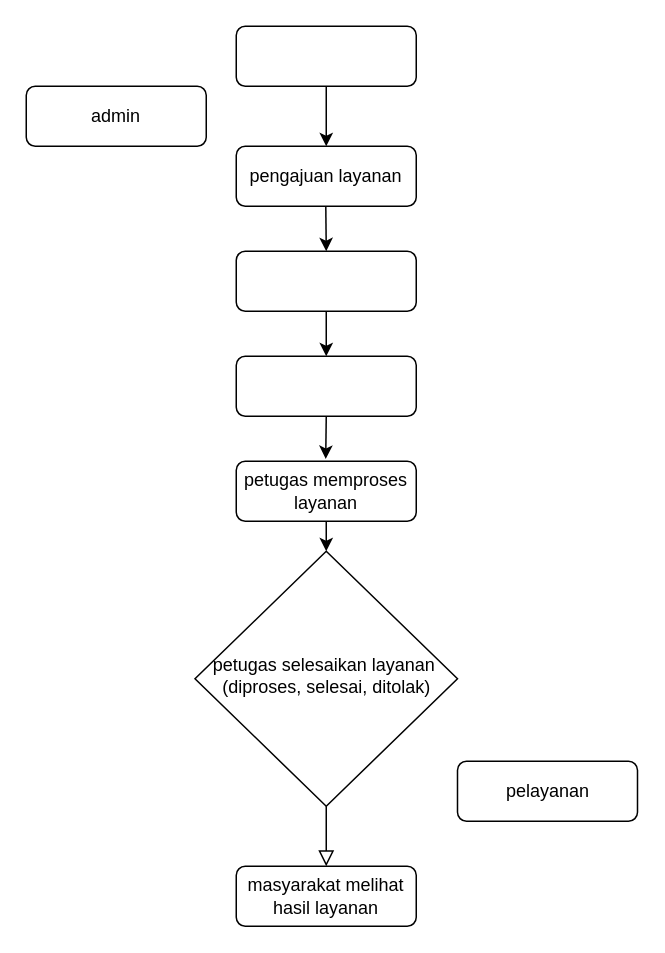
Image size: 665x953. Some labels were removed from this diagram. Each missing label, with the centre of its shape:
"masyarakat login" belongs at pixel 325 55.
"petugas menerima pengajuan" belongs at pixel 325 280.
"petugas mengecek data" belongs at pixel 325 385.
